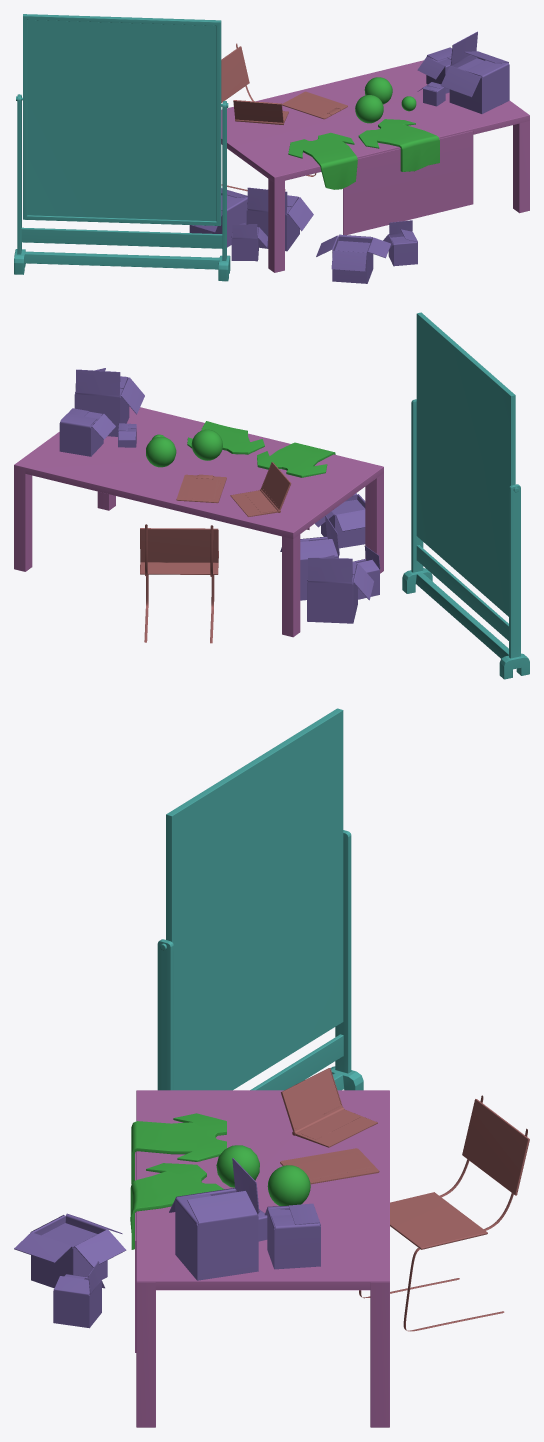
Rendered from Sports_Club.fbx.
3 views of the same model, one above another, from view 1: azimuth 30°, elevation 25°; view 2: azimuth 150°, elevation 25°; view 3: azimuth 270°, elevation 25° (orthographic). The views are drawn at different scales.
Parts seen in each view (by area): view 1: Mirror_Mirror, pCube1, Name_Board, Mirror_Stand, Box_Ajar3, pCube16, Box_Open, pCube15, Box_Ajar2, pCube2, pCube3, Box_Ajar4 (+10 smaller); view 2: Mirror_Mirror, pCube1, Mirror_Stand, Box_Ajar, Box_Ajar3, pCube12, Box_Closed, pCube4, pCube5, pCube15, Box_Open, pCube2 (+11 smaller); view 3: Mirror_Mirror, pCube1, Box_Ajar3, Mirror_Stand, Box_Open, pCube12, pCube15, pCube14, Box_Closed, pCube16, pCube3, pCube4 (+6 smaller).
Boxes of the visible parts, <box> form: Mirror_Mirror: <box>23,14,221,225</box>; pCube1: <box>221,60,529,181</box>; Name_Board: <box>343,130,473,235</box>; Mirror_Stand: <box>14,94,230,281</box>; Box_Ajar3: <box>440,31,509,113</box>; pCube16: <box>358,119,439,171</box>; Box_Open: <box>316,234,390,283</box>; pCube15: <box>288,132,357,189</box>; Box_Ajar2: <box>246,187,313,251</box>; pCube2: <box>268,176,284,272</box>; pCube3: <box>513,116,529,213</box>; Box_Ajar4: <box>383,220,417,266</box>; Mirror_Mirror: <box>416,312,515,616</box>; pCube1: <box>14,406,383,538</box>; Mirror_Stand: <box>402,399,529,679</box>; Box_Ajar: <box>307,555,373,623</box>; Box_Ajar3: <box>74,368,144,436</box>; pCube12: <box>140,528,218,562</box>; Box_Closed: <box>59,408,115,456</box>; pCube4: <box>14,466,32,571</box>; pCube5: <box>282,534,300,637</box>; pCube15: <box>257,442,335,477</box>; Box_Open: <box>315,493,365,548</box>; pCube2: <box>365,473,383,573</box>; Mirror_Mirror: <box>166,708,343,1090</box>; pCube1: <box>136,1090,389,1290</box>; Box_Ajar3: <box>169,1158,259,1280</box>; Mirror_Stand: <box>157,830,363,1090</box>; Box_Open: <box>14,1213,126,1288</box>; pCube12: <box>462,1099,529,1195</box>; pCube15: <box>131,1113,226,1183</box>; pCube14: <box>390,1192,487,1249</box>; Box_Closed: <box>264,1203,320,1269</box>; pCube16: <box>130,1163,223,1249</box>; pCube3: <box>136,1282,155,1427</box>; pCube4: <box>370,1282,389,1427</box>.
Bounding box in the file's own units: 395 × 214 × 255.
